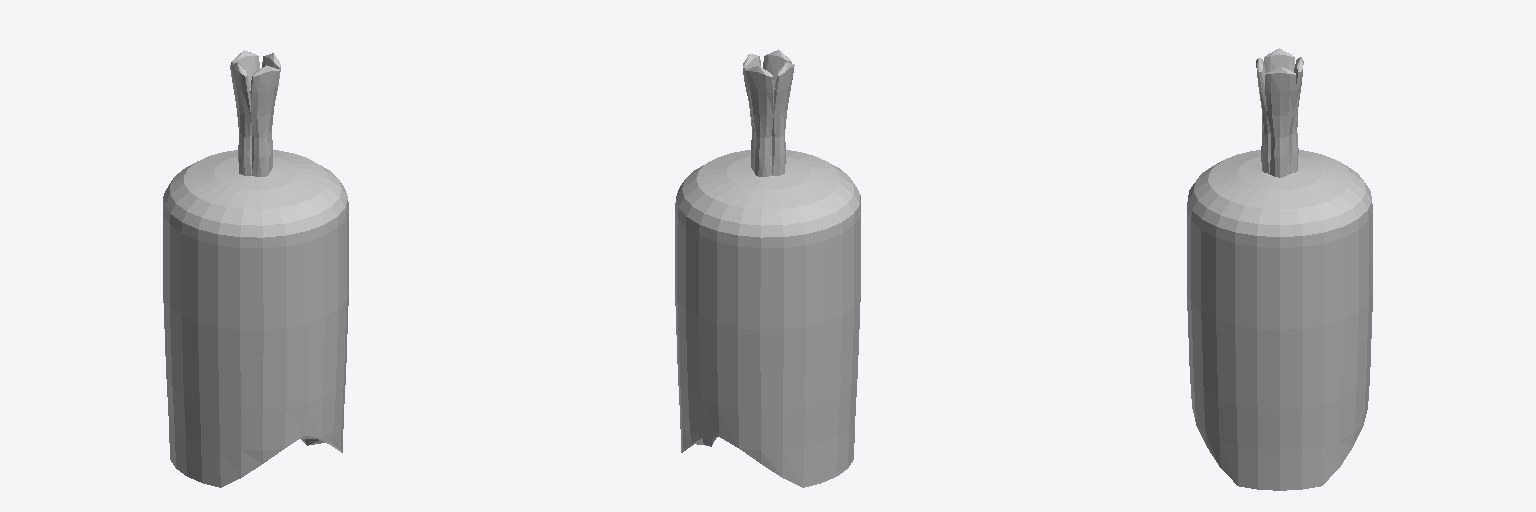
File: brokenCarrot.obj
The picture shows the model from 3 angles: view 1: azimuth 30°, elevation 25°; view 2: azimuth 150°, elevation 25°; view 3: azimuth 270°, elevation 25°; orthographic projection.
Parts seen in each view (by area): view 1: polySurface10 polySurface9; view 2: polySurface10 polySurface9; view 3: polySurface10 polySurface9.
Boxes of the visible parts, x1,y1,x2,y2 form: polySurface10 polySurface9: [163, 50, 348, 487]; polySurface10 polySurface9: [675, 50, 860, 487]; polySurface10 polySurface9: [1187, 48, 1372, 490].
Bounding box in the file's own units: 39.87 × 93.84 × 39.93.